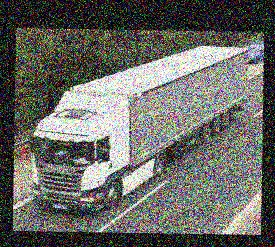truck: (29, 44, 249, 215)
